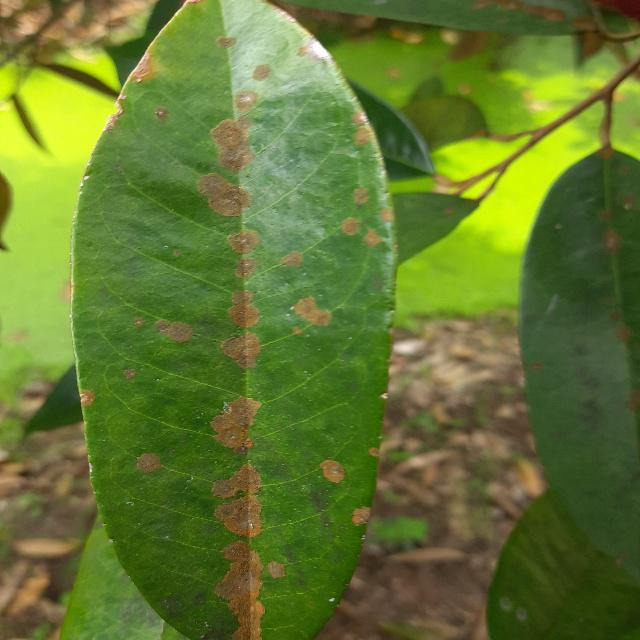Algal Leaf Spot: (63, 0, 407, 639)
